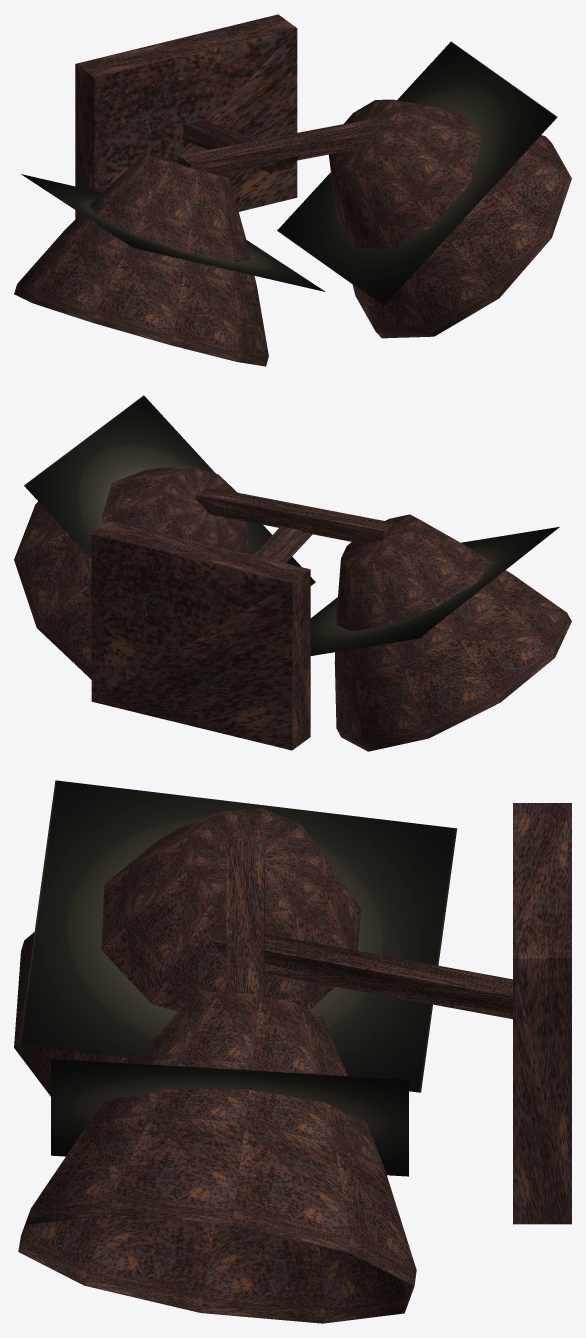
The model's file is spotlight_1.obj.
3 views of the same model, one above another, from view 1: azimuth 30°, elevation 25°; view 2: azimuth 150°, elevation 25°; view 3: azimuth 270°, elevation 25° (orthographic). The views are drawn at different scales.
Parts seen in each view (by area): view 1: body, arms, lensflare_1; view 2: body, arms, lensflare_1; view 3: body, lensflare_1, arms.
Part boxes in pixels (bbox=[...]): body: bbox=[14, 99, 571, 366]; arms: bbox=[75, 14, 380, 218]; lensflare_1: bbox=[21, 41, 557, 305]; body: bbox=[14, 467, 571, 751]; arms: bbox=[91, 487, 396, 750]; lensflare_1: bbox=[24, 395, 559, 655]; body: bbox=[14, 808, 416, 1323]; lensflare_1: bbox=[19, 780, 457, 1176]; arms: bbox=[211, 803, 571, 1224].
Size of the model in its own units: 57.17 by 24.43 by 33.74.
